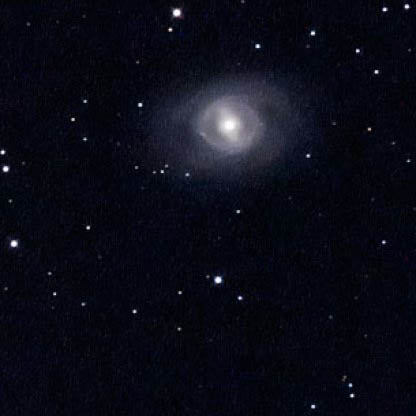Messier 95: (146, 65, 318, 187)
